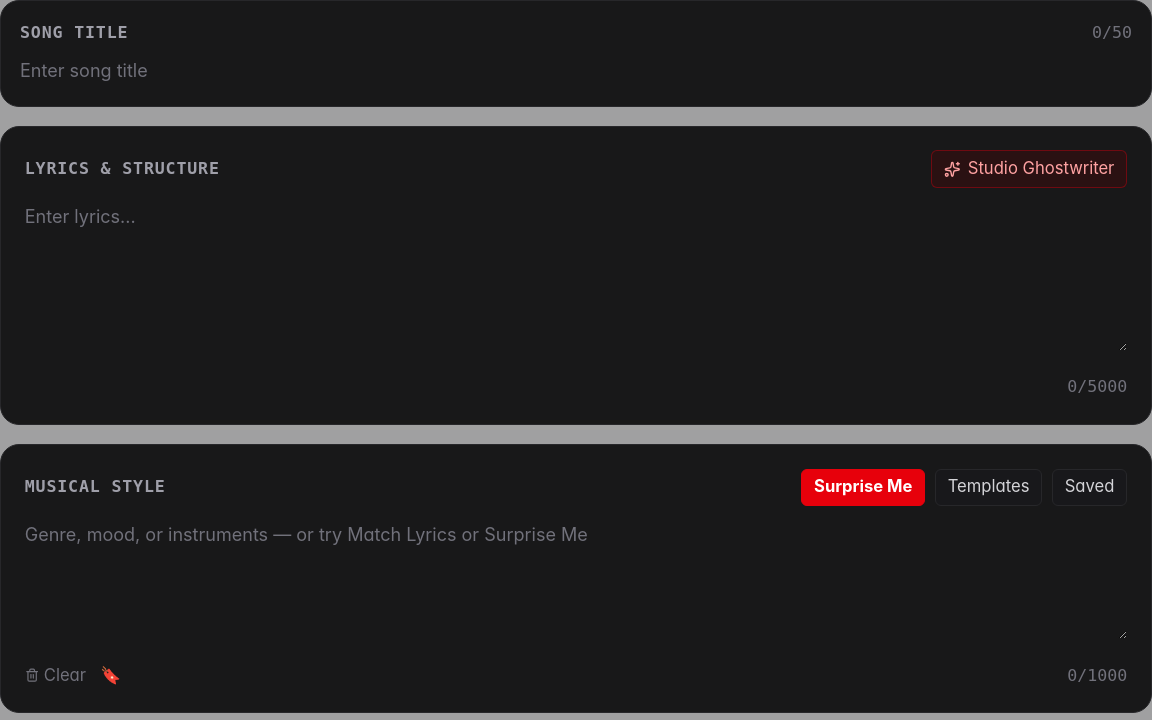
it: VocalStudioTab › loads a template and a saved prompt into the style box
Click the button "Templates": (989, 487) [935,469,1042,506]
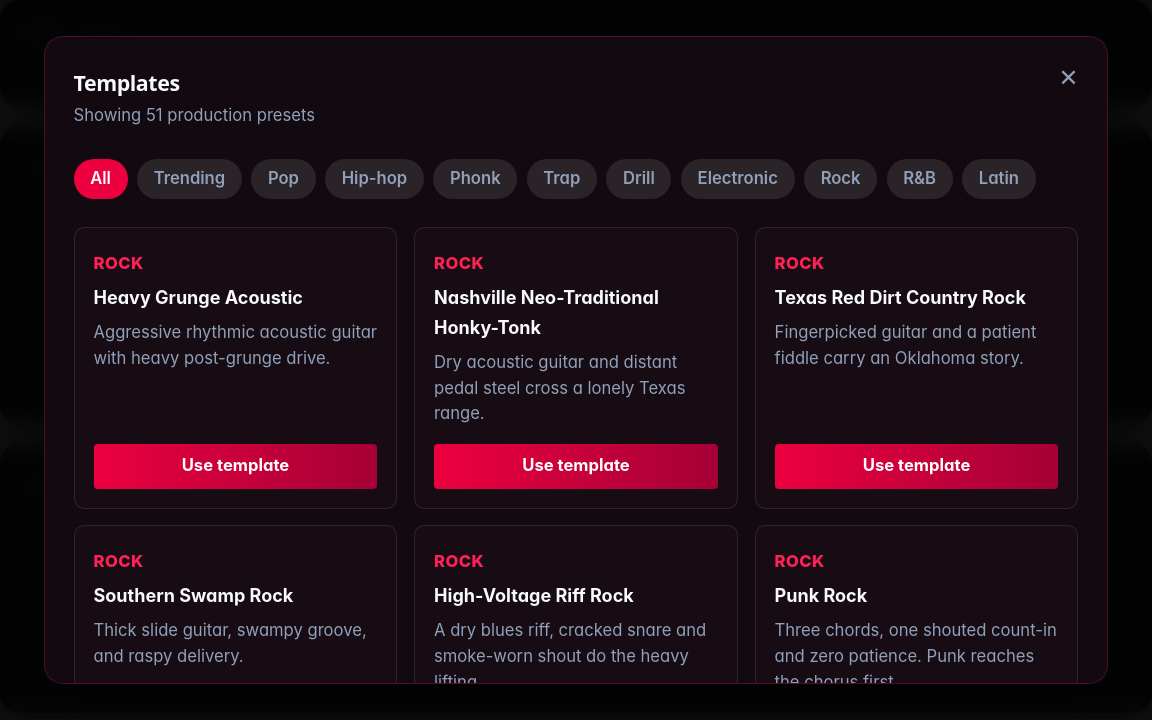
Expected: the button "Use template" below "Heavy Grunge Acoustic" is shown
Click the button "Use template" below "Heavy Grunge Acoustic": (235, 466) [94,444,377,489]
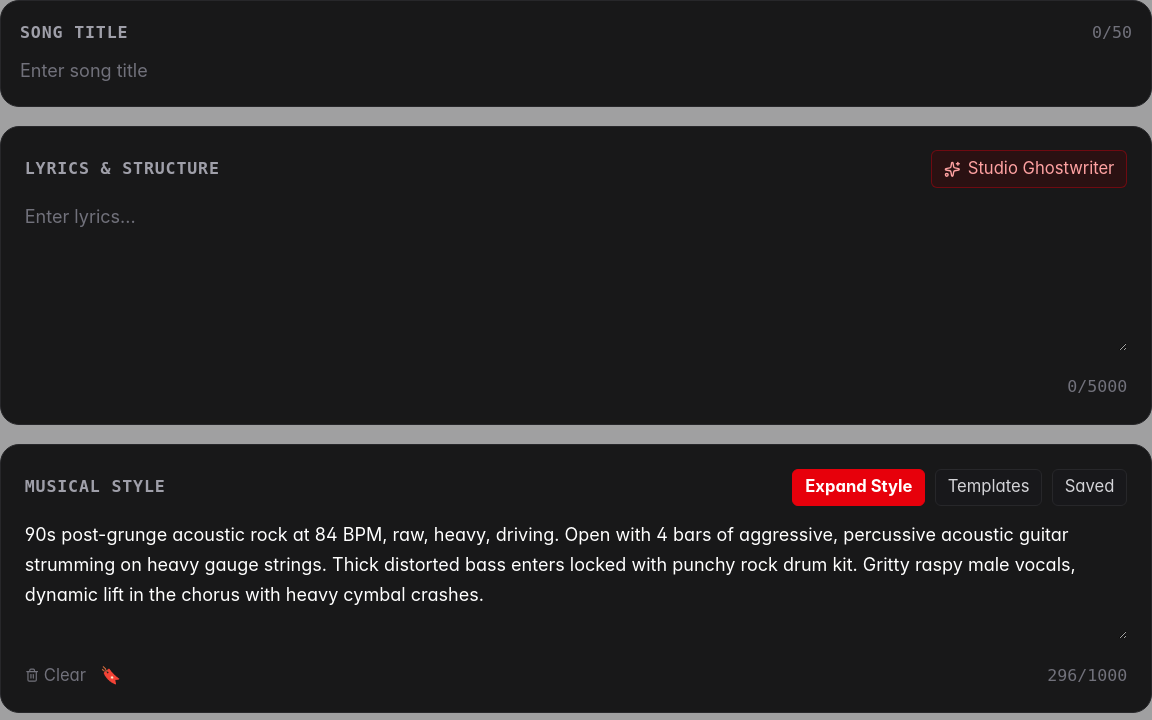
Expected: the text box named "Style" holds "90s post-grunge acoustic rock at 84 BPM, raw, heavy, driving. Open with 4 bars of aggressive, percussive acoustic guitar strumming on heavy gauge strings. Thick", [25,520,1127,639]
Click the button "Saved": (1090, 487) [1052,469,1127,506]
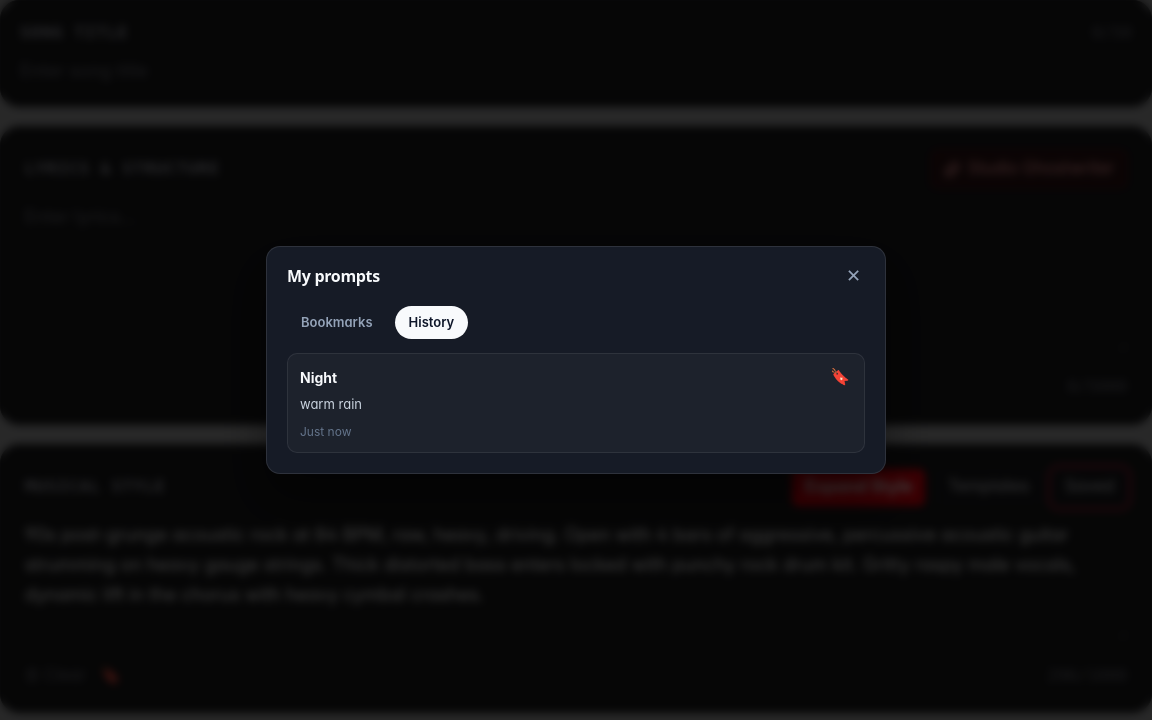
Click the button "Night warm rain Just now": (319, 378) [300,366,818,442]
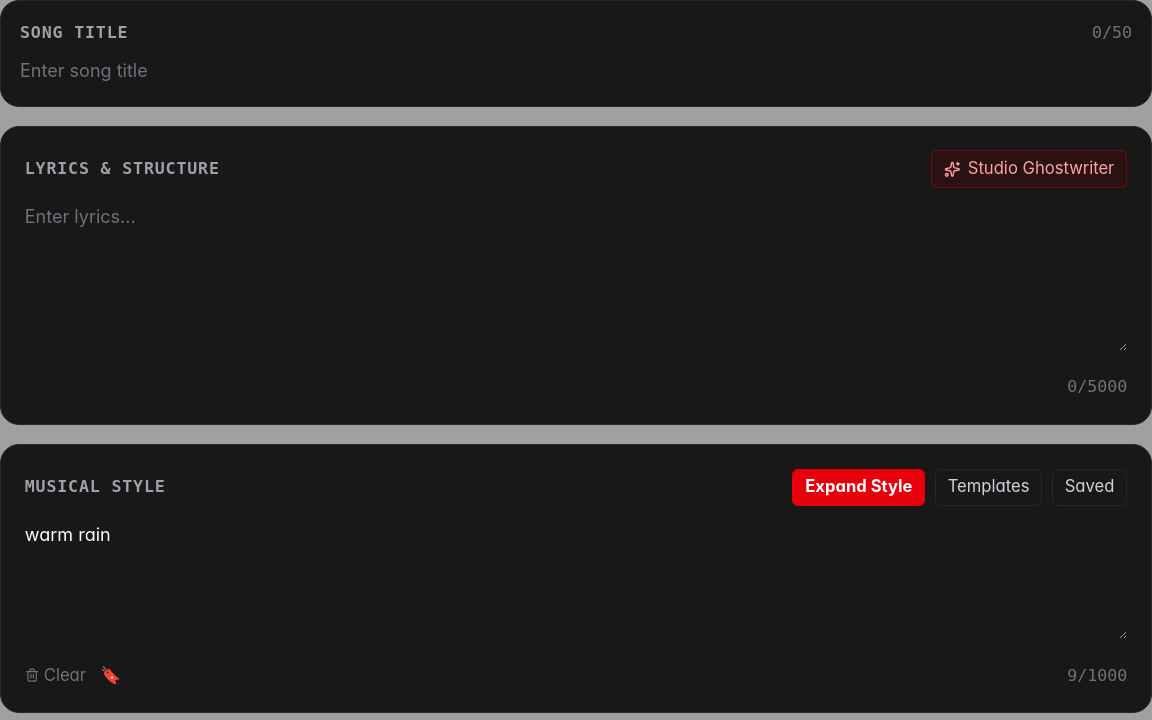
Expected: the text box named "Style" holds "warm rain", [25,520,1127,639]
